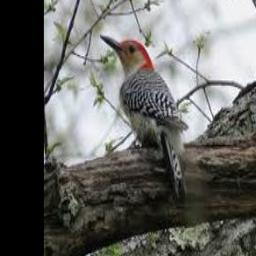Woodpecker: (99, 34, 188, 198)
